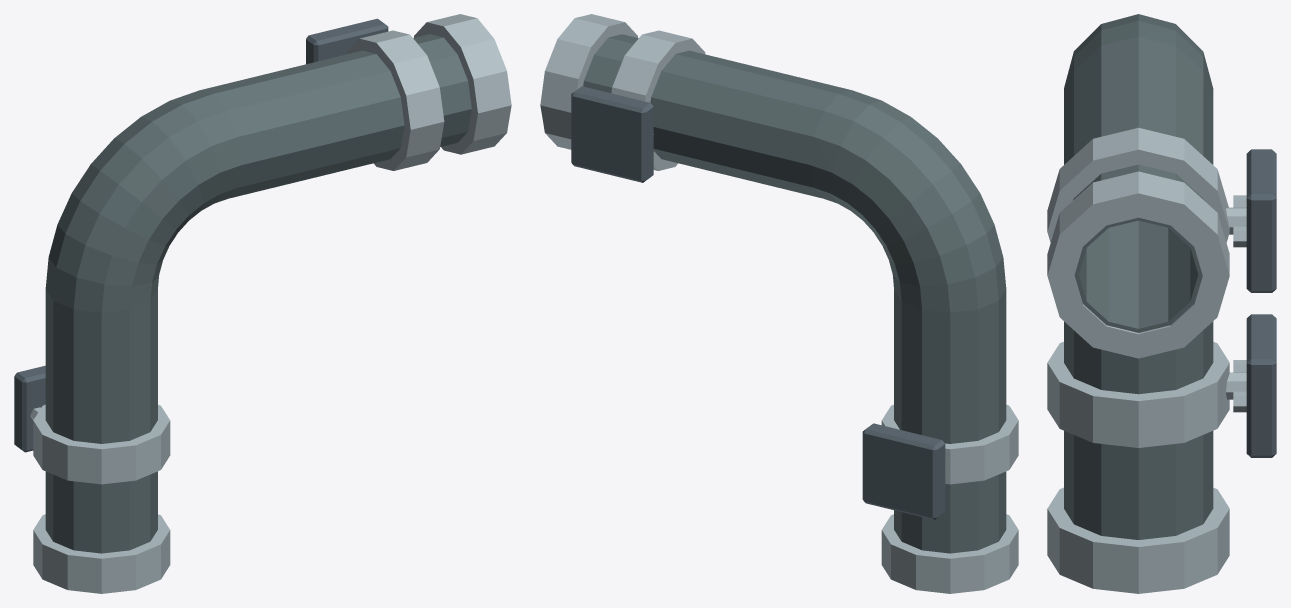
File: 01_pipe_sewer_wall_elbow.glb
3 renders of one model, left to right at view 1: azimuth 30°, elevation 25°; view 2: azimuth 150°, elevation 25°; view 3: azimuth 270°, elevation 25°, orthographic. The views are drawn at different scales.
Visible parts, largest first — view 1: 01_pipe_sewer_wall_elbow; view 2: 01_pipe_sewer_wall_elbow; view 3: 01_pipe_sewer_wall_elbow.
Boxes of the visible parts, left/top/right/bottom form: 01_pipe_sewer_wall_elbow: left=14, top=14, right=511, bottom=593; 01_pipe_sewer_wall_elbow: left=540, top=14, right=1018, bottom=593; 01_pipe_sewer_wall_elbow: left=1047, top=14, right=1276, bottom=593.
Size of the model in its own units: 1.16 by 1.16 by 0.3986.
